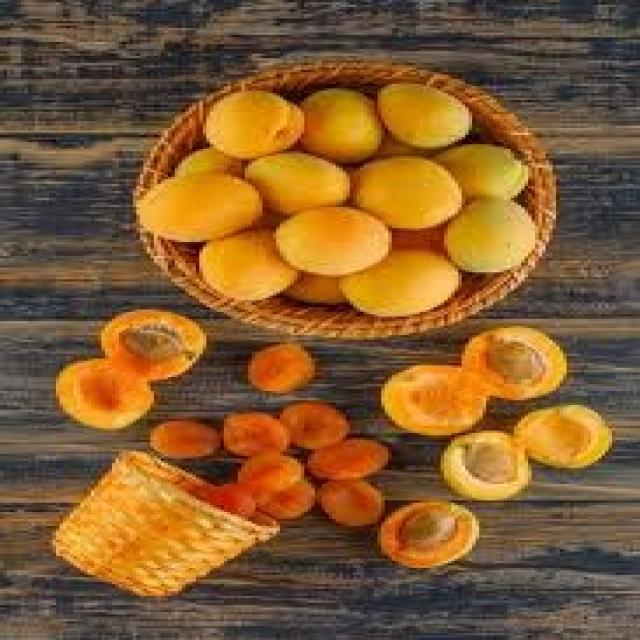cekirdek: (484, 334, 546, 391), (114, 322, 188, 366), (399, 505, 461, 555), (464, 441, 523, 487)
kayisi: (126, 173, 266, 244), (350, 152, 466, 233), (334, 247, 463, 319), (273, 202, 394, 278), (198, 225, 306, 306), (93, 306, 211, 379), (461, 323, 565, 400), (205, 87, 314, 160), (377, 495, 483, 570), (381, 362, 494, 432), (373, 78, 479, 151), (440, 197, 541, 273), (53, 358, 156, 430), (435, 424, 530, 500), (296, 82, 388, 160), (240, 149, 352, 213), (514, 400, 613, 471), (434, 142, 536, 202), (312, 471, 388, 529), (241, 342, 320, 396), (209, 412, 294, 461), (308, 432, 390, 482), (277, 400, 353, 452), (237, 448, 301, 503), (256, 471, 320, 525), (147, 418, 226, 460)
